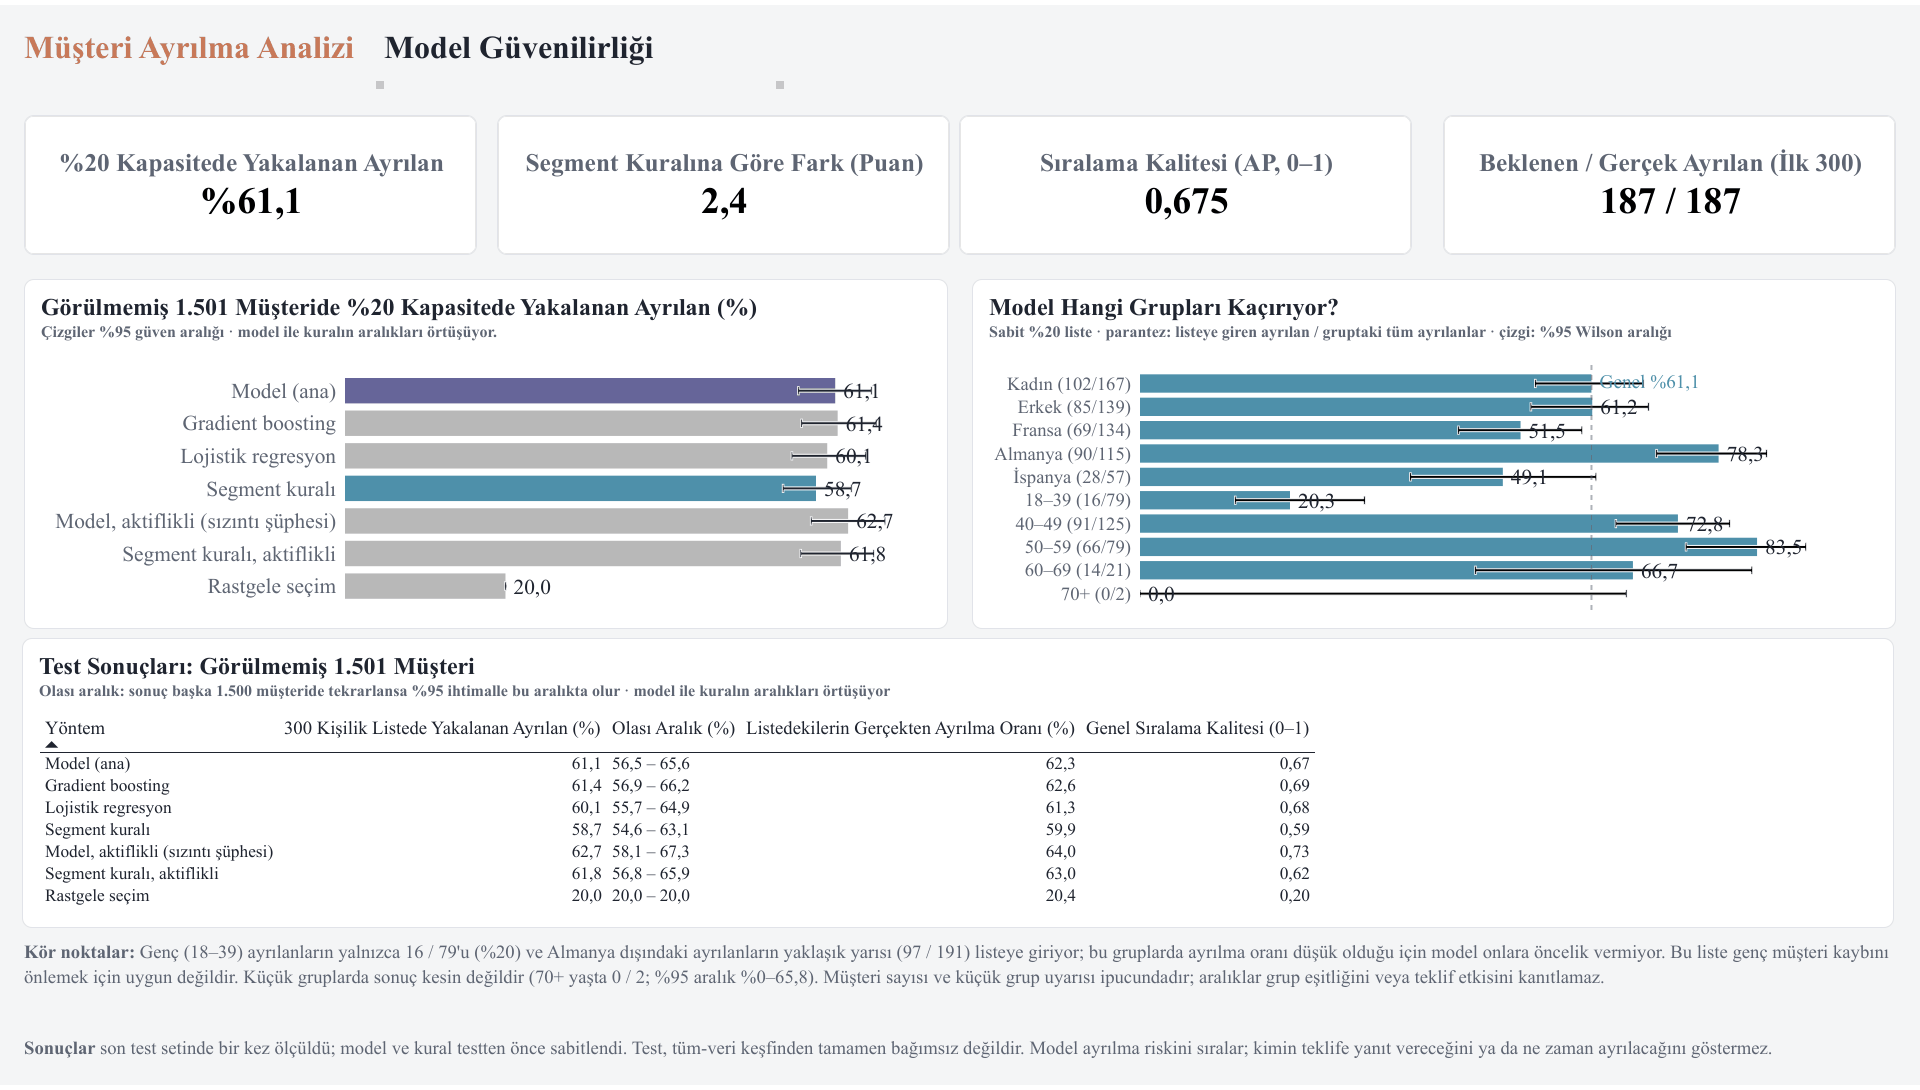

The page's visual inventory and layout, read from the dashboard file:
{"tool":"powerbi","page":{"name":"Model Güvenilirliği","canvas":[1920,1080],"ordinal":3},"visuals":[{"type":"textbox","title":"Müşteri Ayrılma Analizi","box":[24,24,360,60],"z":0},{"type":"textbox","title":"Model Güvenilirliği","box":[384,24,400,60],"z":1000},{"type":"cardVisual","fields":{"Data":["Test Ölçütleri.Test Yakalanan 20"]},"box":[24,110,453,140],"z":2000},{"type":"cardVisual","fields":{"Data":["Test Ölçütleri.Kalibrasyon Kontrolü"]},"box":[1443,110,453,140],"z":3000},{"type":"cardVisual","fields":{"Data":["Test Ölçütleri.Test AP"]},"box":[959.1,110.4,453,140],"z":4000},{"type":"cardVisual","fields":{"Data":["Test Ölçütleri.Test Kurala Fark"]},"box":[497,110,453,140],"z":5000},{"type":"clusteredBarChart","title":"Görülmemiş 1.501 Müşteride %20 Kapasitede Yakalanan Ayrılan (%)","fields":{"Category":["Test Ölçütleri.Yöntem"],"Y":["Sum(Test Ölçütleri.Yakalanan %20)"]},"box":[24,274,924,350],"z":6000},{"type":"clusteredBarChart","title":"Model Hangi Grupları Kaçırıyor?","fields":{"Category":["Grup Performansı.Grup ve olay"],"Y":["Sum(Grup Performansı.Yakalanan ayrılan payı)"]},"box":[972,274,924,350],"z":7000},{"type":"tableEx","title":"Test Sonuçları: Görülmemiş 1.501 Müşteri","fields":{"Values":["Test Ölçütleri.Yöntem","Test Ölçütleri.300 Kişilik Listede Yakalanan Ayrılan (%)","Test Ölçütleri.Olası Aralık (%)","Test Ölçütleri.Listedekilerin Gerçekten Ayrılma Oranı (%)","Test Ölçütleri.Genel Sıralama Kalitesi (0–1)"]},"box":[21.7,633.4,1872,290],"z":8000},{"type":"textbox","box":[24,934,1872,80],"z":9000},{"type":"textbox","box":[24,1030,1872,48],"z":10000}]}

Visuals, with their boxes in screenshot pixels (x1, y1, x2, y2), scaled from the page's 1920x1080 canvas onto the 1920x1090 screenshot:
"Müşteri Ayrılma Analizi" textbox: Rect(24, 24, 384, 85)
"Model Güvenilirliği" textbox: Rect(384, 24, 784, 85)
cardVisual - Test Ölçütleri.Test Yakalanan 20: Rect(24, 111, 477, 252)
cardVisual - Test Ölçütleri.Kalibrasyon Kontrolü: Rect(1443, 111, 1896, 252)
cardVisual - Test Ölçütleri.Test AP: Rect(959, 111, 1412, 253)
cardVisual - Test Ölçütleri.Test Kurala Fark: Rect(497, 111, 950, 252)
"Görülmemiş 1.501 Müşteride %20 Kapasitede Yakalanan Ayrılan (%)" clusteredBarChart: Rect(24, 277, 948, 630)
"Model Hangi Grupları Kaçırıyor?" clusteredBarChart: Rect(972, 277, 1896, 630)
"Test Sonuçları: Görülmemiş 1.501 Müşteri" tableEx: Rect(22, 639, 1894, 932)
textbox: Rect(24, 943, 1896, 1023)
textbox: Rect(24, 1040, 1896, 1088)
